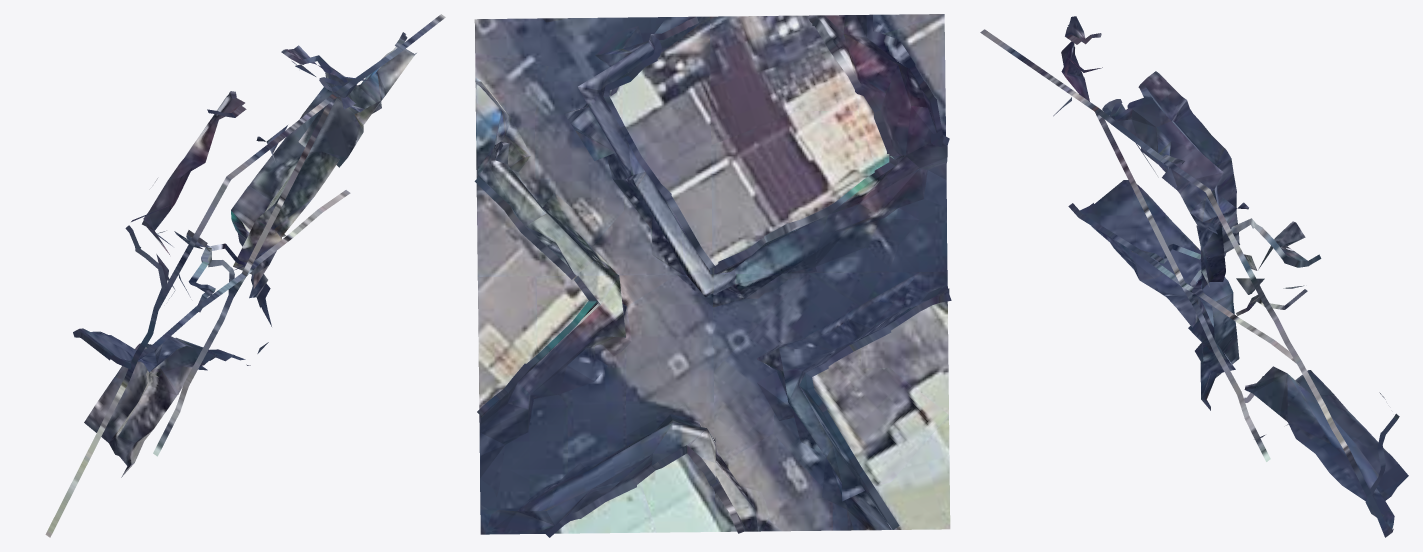
The picture shows the model from 3 angles, left to right: view 1: azimuth 30°, elevation 25°; view 2: azimuth 150°, elevation 25°; view 3: azimuth 270°, elevation 25°; orthographic projection. The views are drawn at different scales.
Bounding box in the file's own units: 38.34 × 37.02 × 33.95.
2 materials, 2 textured.
